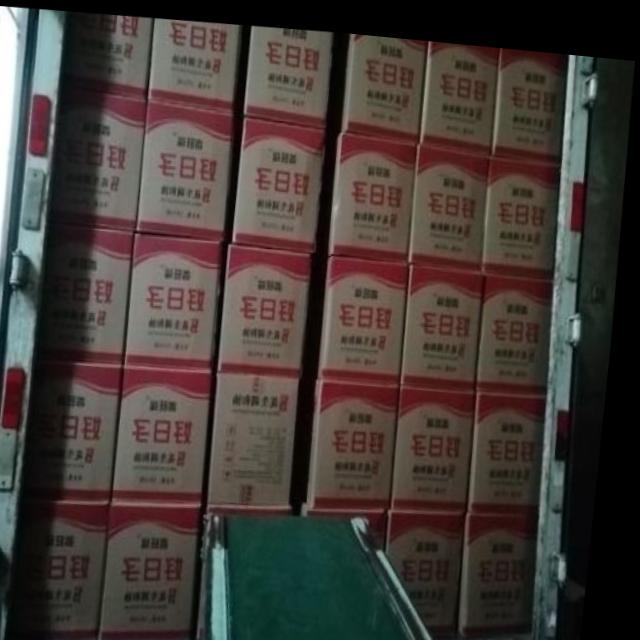box: (112, 496, 213, 640), (18, 496, 119, 640), (32, 354, 131, 496), (121, 360, 222, 498), (139, 96, 237, 238), (42, 218, 139, 361), (54, 83, 148, 228), (131, 228, 230, 365), (235, 109, 329, 247), (223, 237, 318, 370), (216, 365, 308, 498), (313, 369, 405, 499), (323, 246, 412, 376), (330, 124, 419, 252), (398, 376, 483, 502), (393, 500, 477, 626), (413, 135, 493, 262), (334, 26, 427, 135), (408, 254, 488, 378), (468, 501, 549, 621), (243, 20, 337, 122), (477, 378, 553, 502), (486, 144, 562, 266), (148, 15, 245, 110), (483, 262, 559, 381), (421, 32, 500, 144), (493, 38, 569, 151), (61, 9, 154, 96), (310, 494, 396, 543), (217, 495, 304, 507)
